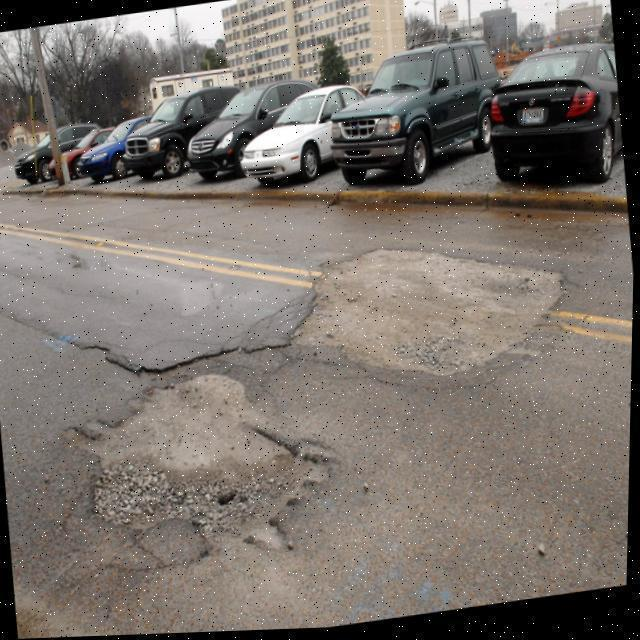Pothole: (58, 344, 345, 571), (284, 240, 572, 381)
